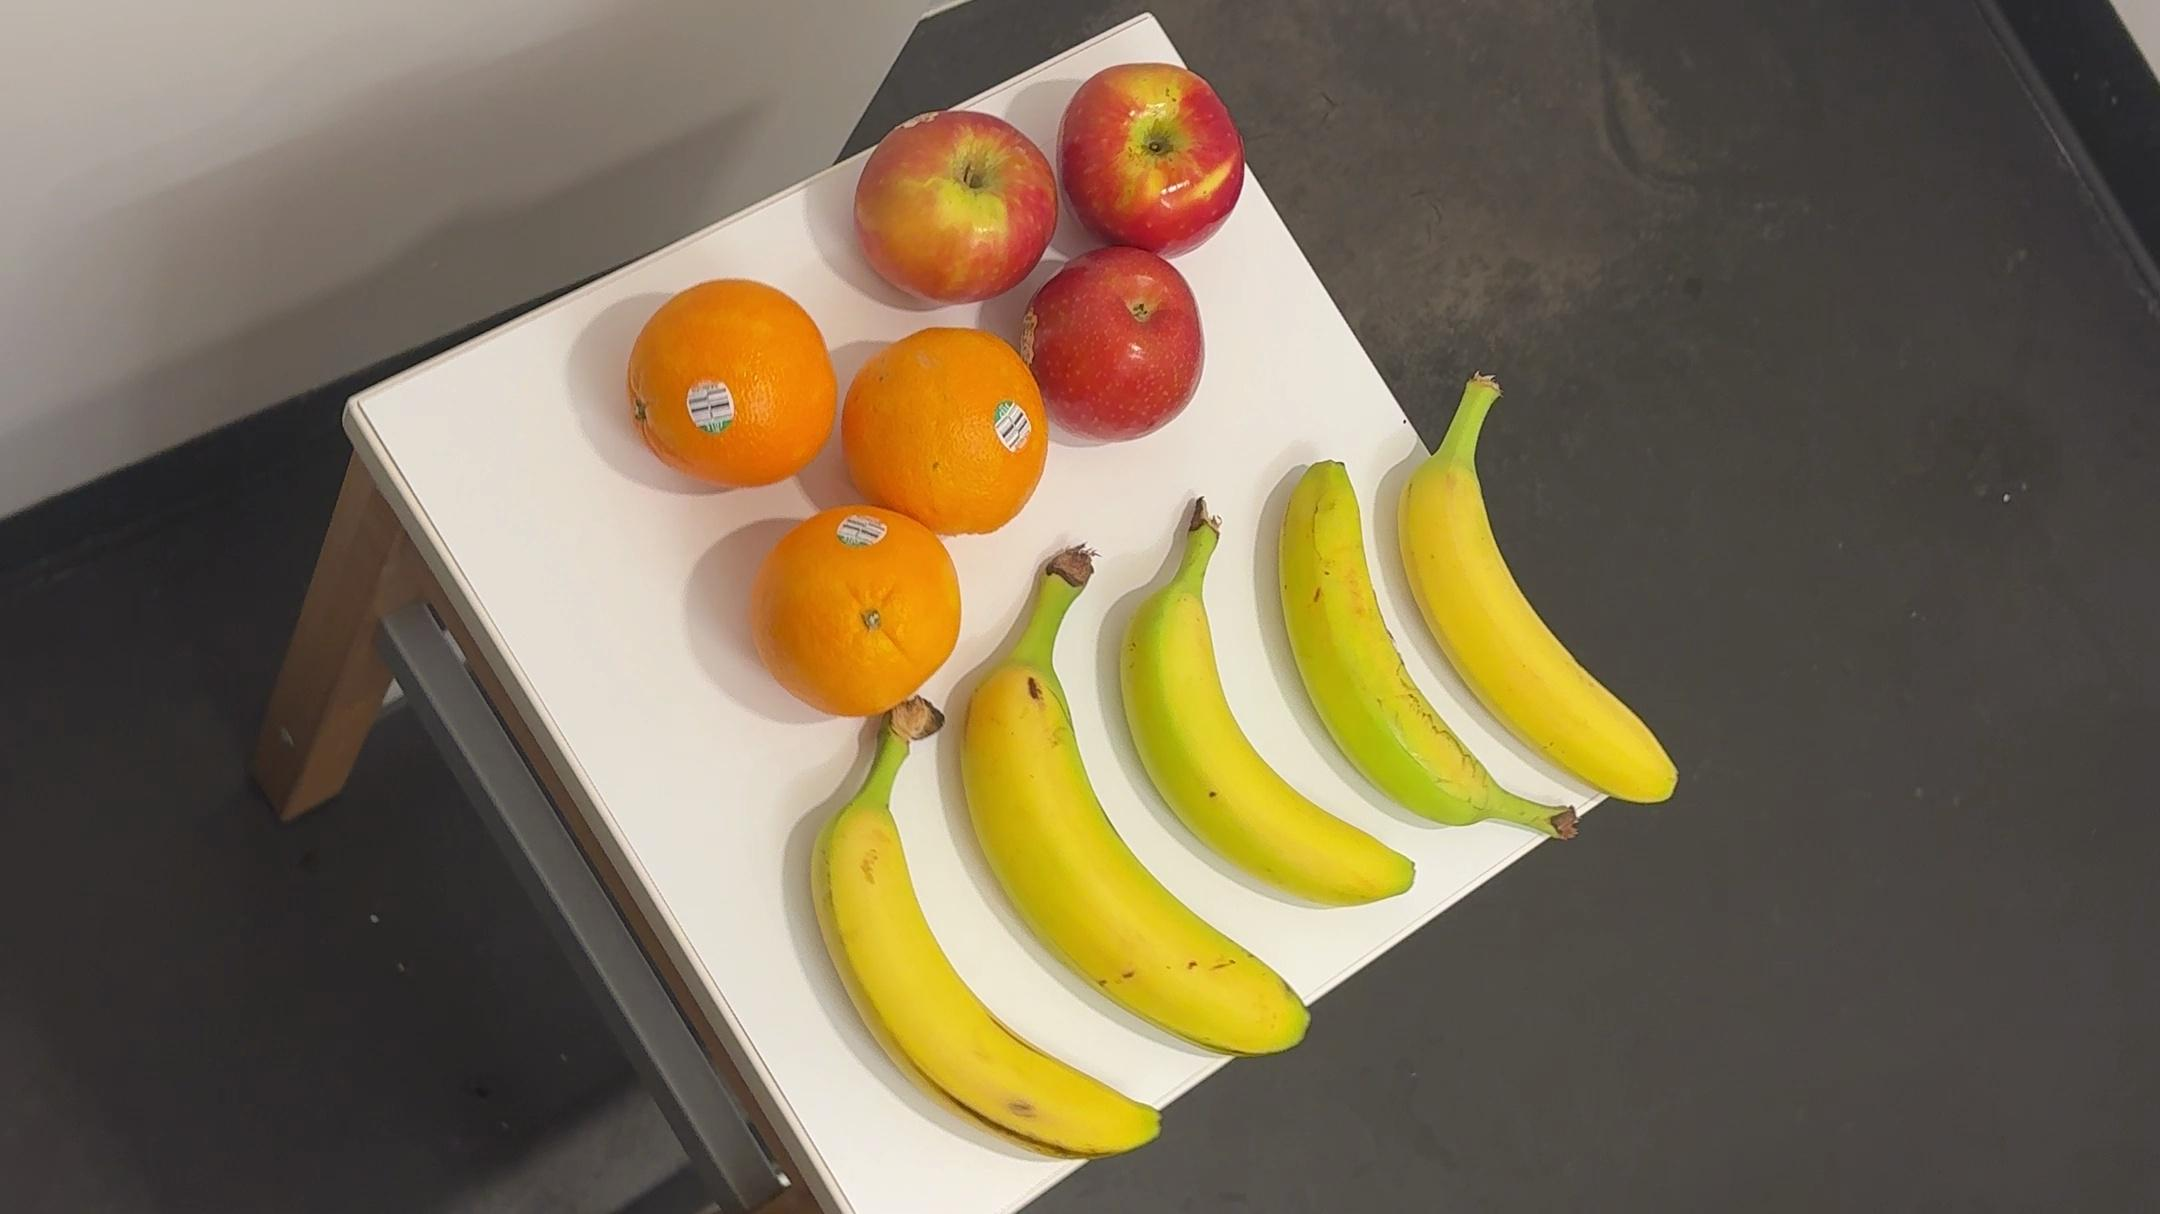apple: (847, 99, 1064, 319), (1030, 245, 1209, 453), (1064, 55, 1248, 252)
banana: (929, 545, 1311, 1069), (779, 703, 1175, 1172), (1090, 485, 1424, 925), (1375, 355, 1691, 813), (1248, 456, 1598, 859)
orange: (625, 275, 843, 496), (751, 497, 963, 718), (846, 318, 1046, 533)
